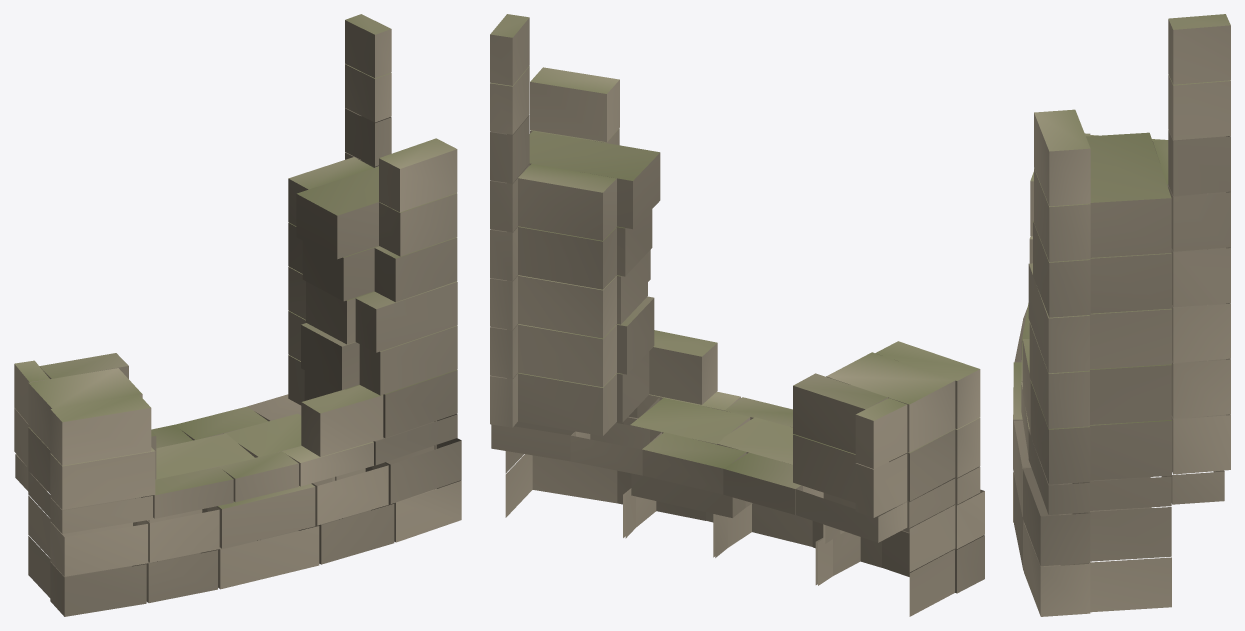
File: dome_drum_bp1_mid.glb
The picture shows the model from 3 angles, left to right: view 1: azimuth 30°, elevation 25°; view 2: azimuth 150°, elevation 25°; view 3: azimuth 270°, elevation 25°; orthographic projection. The views are drawn at different scales.
Visible parts, largest first — view 1: dome_drum_bp1_mid; view 2: dome_drum_bp1_mid; view 3: dome_drum_bp1_mid.
Boxes of the visible parts, x1,y1,x2,y2 form: dome_drum_bp1_mid: (14, 14, 461, 616); dome_drum_bp1_mid: (490, 14, 984, 616); dome_drum_bp1_mid: (1013, 14, 1230, 616).
Size of the model in its own units: 20.71 by 22.77 by 7.8.
